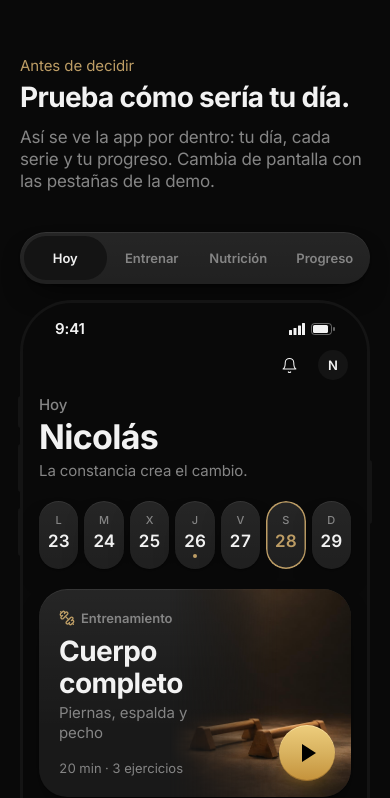
public product preview › renders read-only screens from sample data and switches them from the visible tabs
Later steps or results of the test are not shown.
Expected: the heading "Hoy" is shown, [39, 395, 67, 414]
Expected: the text "Nicolás" is shown, [39, 416, 158, 457]
What coordinates should you click on to do the following:
click the tab "Nutrición"
I would click on:
 (238, 258)
Its box is [197, 236, 280, 280].
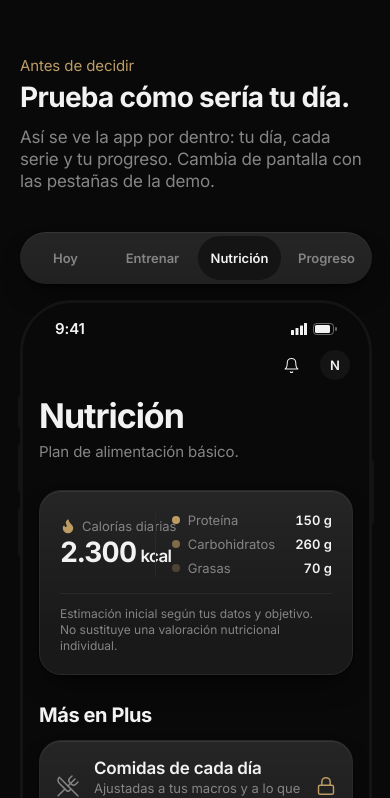
Result: the heading "Nutrición" is shown at [39, 395, 184, 436]
What coordinates should you click on to do the following:
click the tab "Entrenar"
I would click on:
 (152, 258)
Its box is [111, 236, 194, 280].
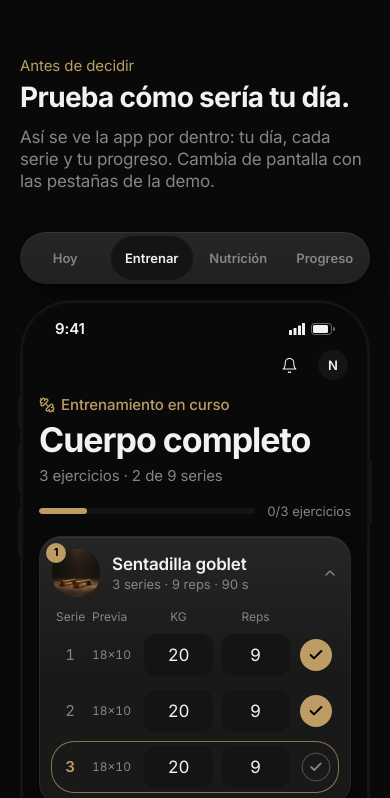
Result: the heading "Cuerpo completo" is shown at [39, 419, 351, 462]
What coordinates should you click on to do the following:
click the tab "Progreso"
I would click on:
 (325, 258)
Its box is [284, 236, 366, 280].
(page scrolled)
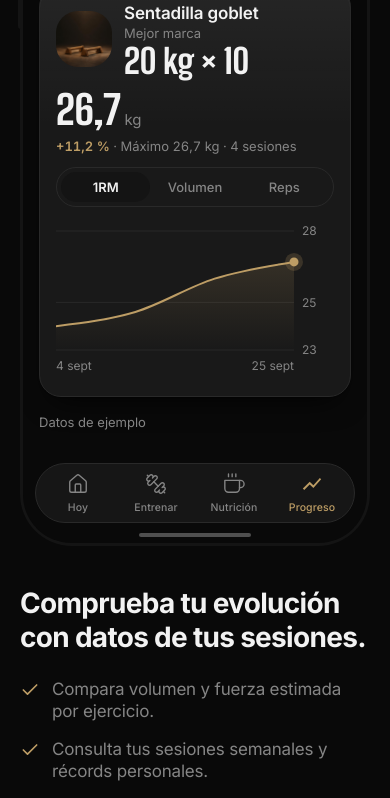
Result: the text "Datos de ejemplo" is shown at [39, 414, 146, 430]
